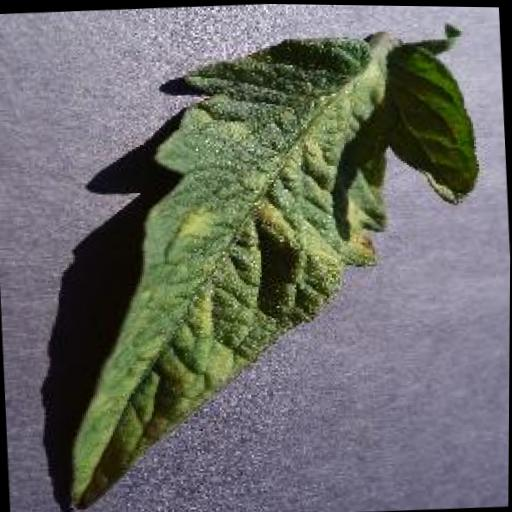Leaf Mold: (45, 18, 496, 512)
